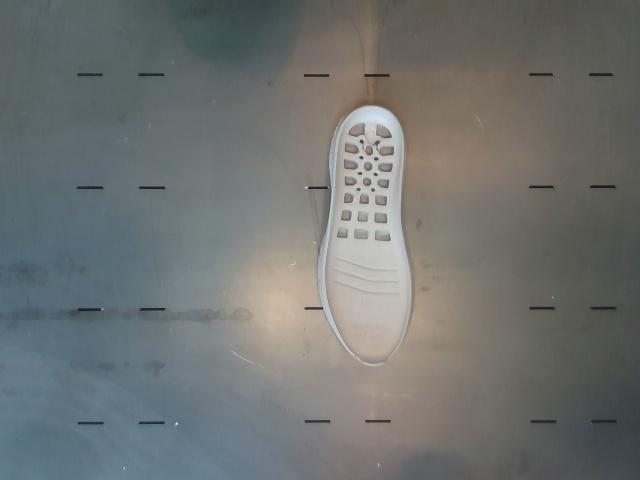shoes: (325, 107, 412, 365)
